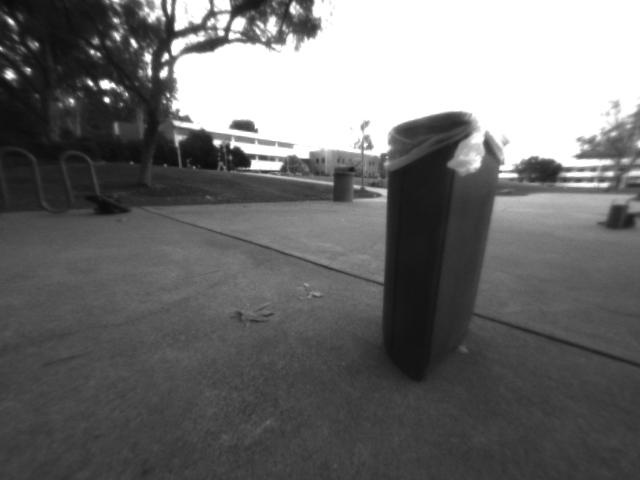trashcan_open: (377, 107, 511, 382)
